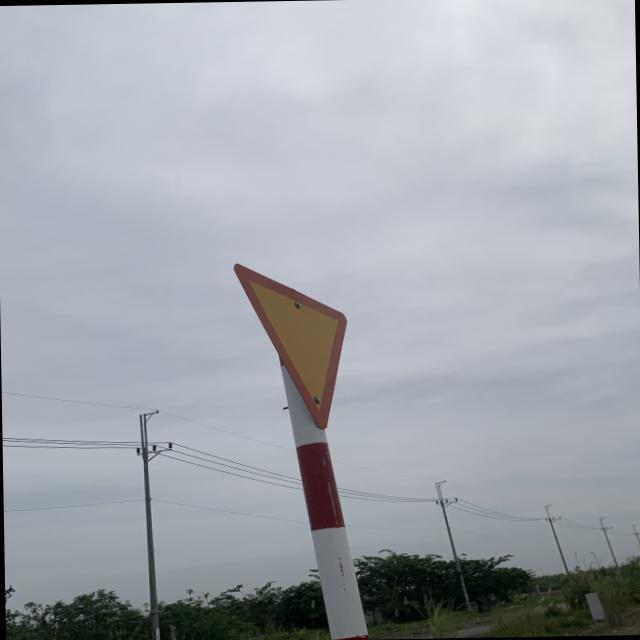Gioi_Han_Toc_Do_25: (232, 260, 350, 430)
